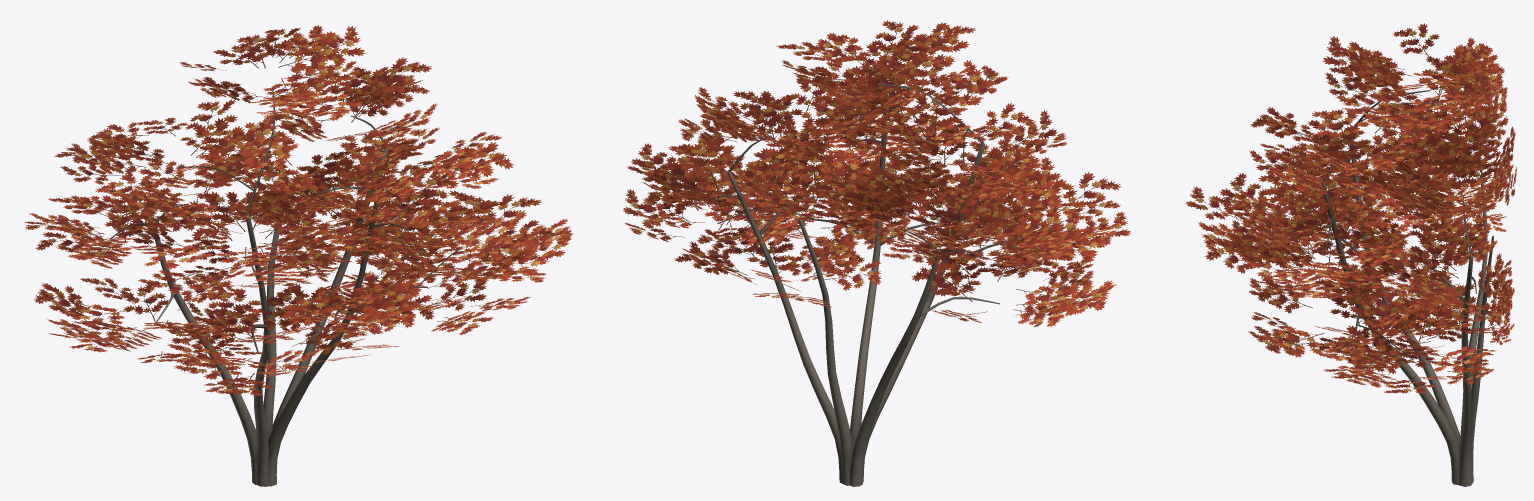
File: courtyard_maple.gltf
3 views of the same model, side by side, from view 1: azimuth 30°, elevation 25°; view 2: azimuth 150°, elevation 25°; view 3: azimuth 270°, elevation 25° (orthographic). The views are drawn at different scales.
Parts seen in each view (by area): view 1: CourtyardMaple_Canopy, CourtyardMaple_Trunk, CourtyardMaple_LimbsNoCollide; view 2: CourtyardMaple_Canopy, CourtyardMaple_Trunk, CourtyardMaple_LimbsNoCollide; view 3: CourtyardMaple_Canopy, CourtyardMaple_Trunk, CourtyardMaple_LimbsNoCollide.
Part boxes in pixels (bbox=[...]): CourtyardMaple_Canopy: bbox=[25, 25, 573, 396]; CourtyardMaple_Trunk: bbox=[186, 293, 335, 486]; CourtyardMaple_LimbsNoCollide: bbox=[111, 87, 459, 354]; CourtyardMaple_Canopy: bbox=[623, 20, 1131, 327]; CourtyardMaple_Trunk: bbox=[783, 283, 931, 486]; CourtyardMaple_LimbsNoCollide: bbox=[711, 84, 1021, 342]; CourtyardMaple_Canopy: bbox=[1185, 23, 1516, 393]; CourtyardMaple_Trunk: bbox=[1380, 287, 1484, 486]; CourtyardMaple_LimbsNoCollide: bbox=[1314, 90, 1494, 359].
Bounding box in the file's own units: 4.18 × 3.46 × 2.57.
Materials: 2 (1 with a texture image).
